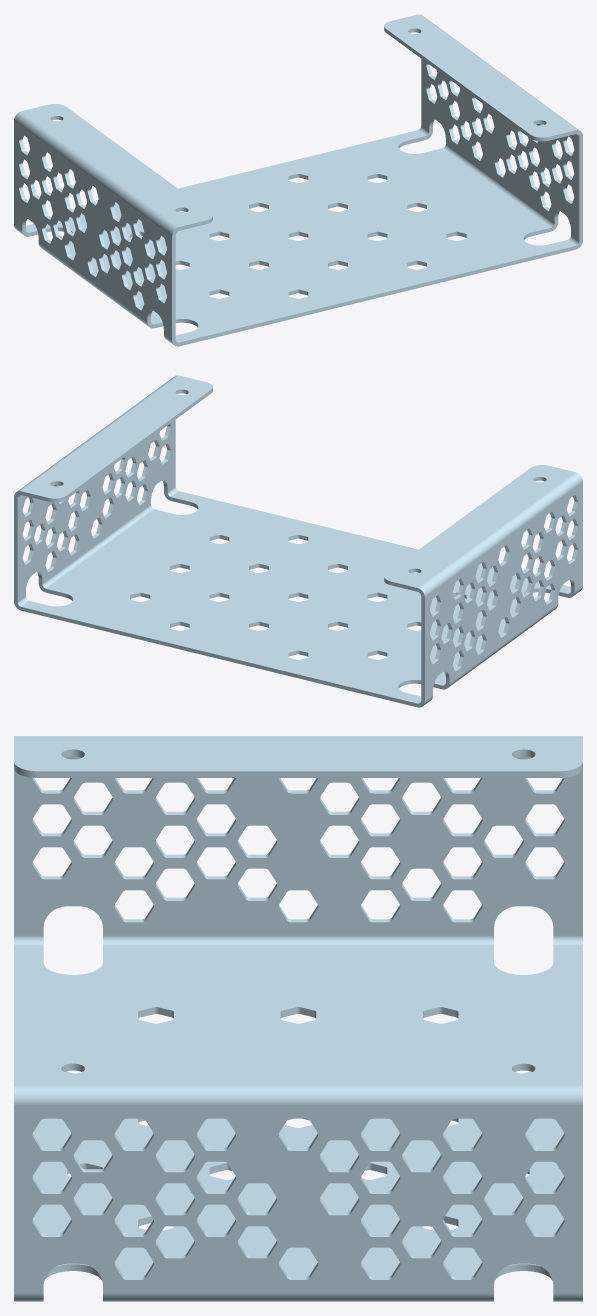
The model's file is bracket.glb.
3 renders of one model, top to bottom at view 1: azimuth 30°, elevation 25°; view 2: azimuth 150°, elevation 25°; view 3: azimuth 270°, elevation 25°, orthographic. The views are drawn at different scales.
Visible parts, largest first — view 1: Part 1; view 2: Part 1; view 3: Part 1.
Part boxes in pixels (x1,y1,x2,y2): Part 1: (14,14,582,346); Part 1: (14,375,582,707); Part 1: (14,736,582,1301).
Bounding box in the file's own units: 0.2286 × 0.0635 × 0.1524.
